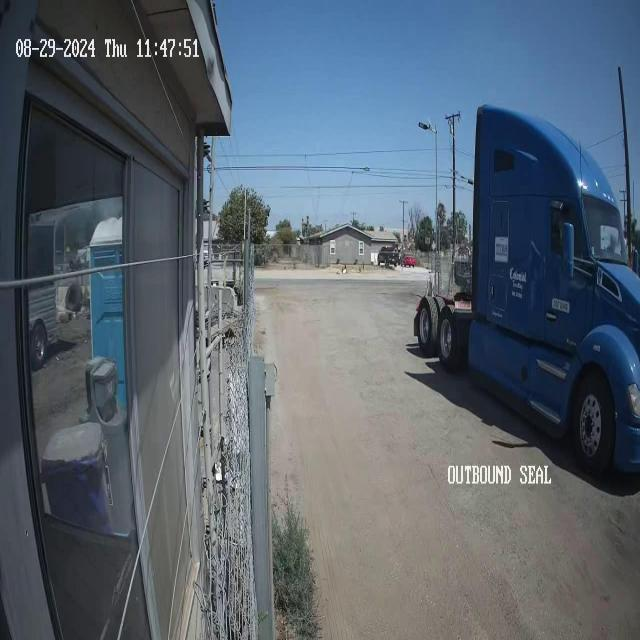BOBTAIL: (414, 100, 639, 468)
